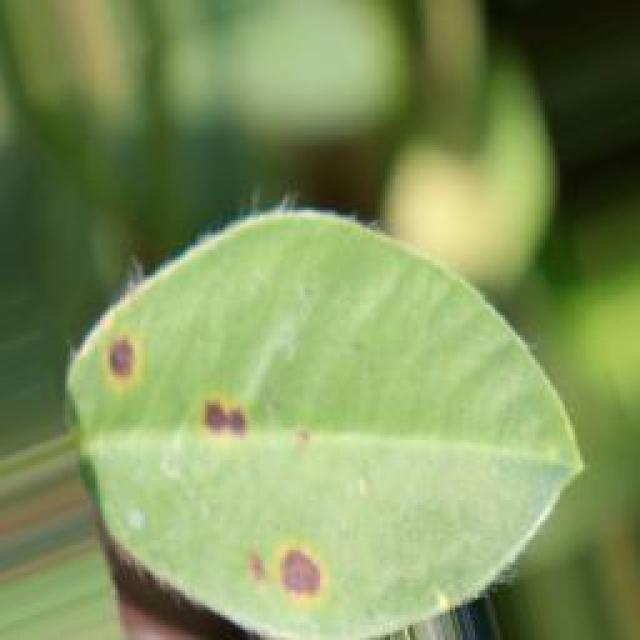Sigatoka: (187, 388, 312, 459), (243, 526, 329, 616), (93, 324, 164, 414)
